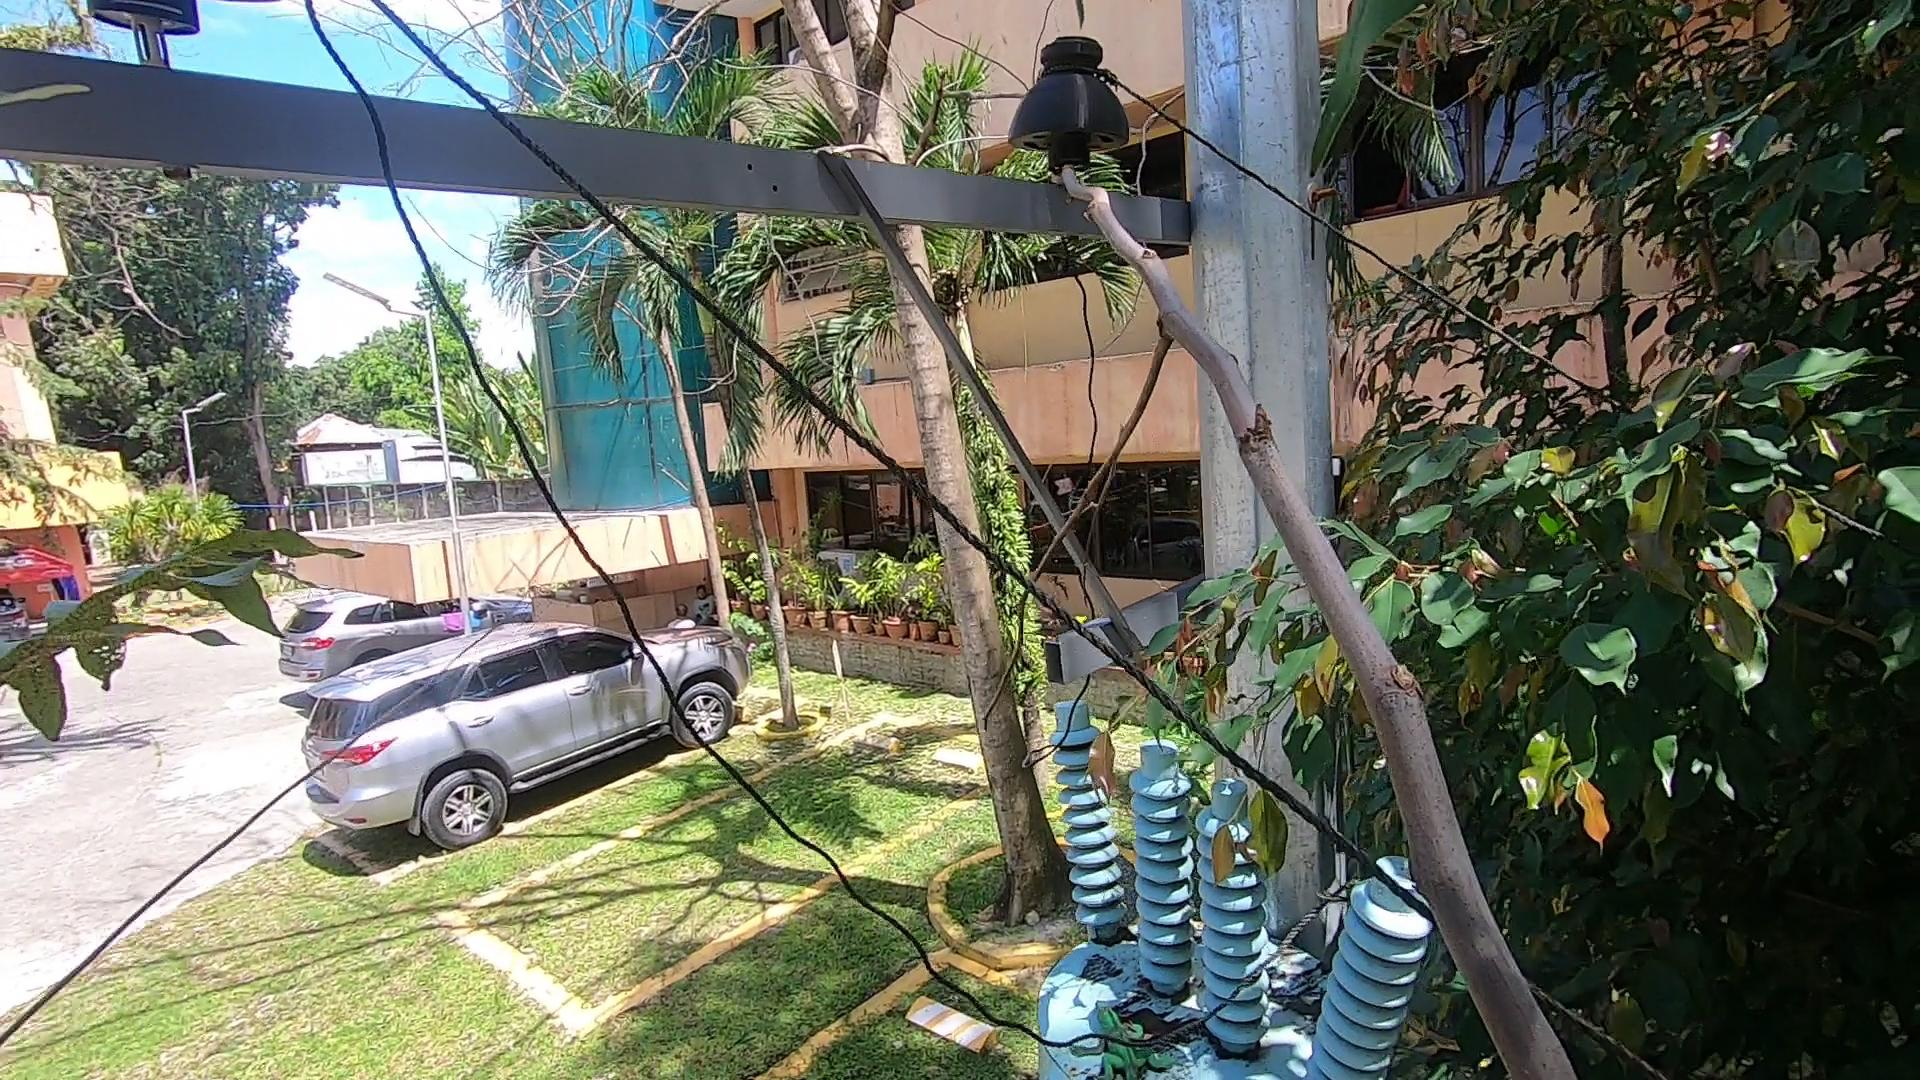branch with leaves: (1116, 574, 1385, 932)
leaf: (1118, 975, 1207, 1043), (1274, 980, 1333, 1029), (1093, 915, 1139, 947)
tree branch: (1018, 116, 1609, 1080)
